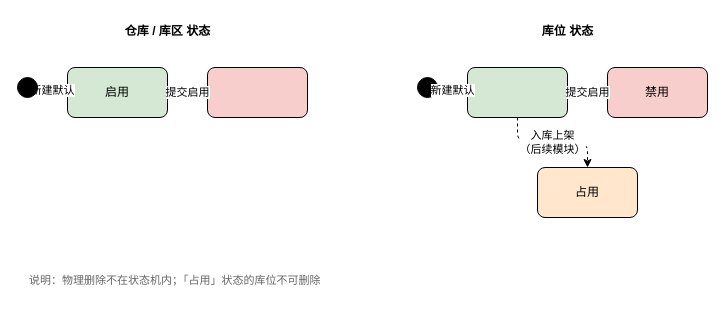
Some shapes in this 725 by 314 pixel diagram are drawn without their labels. Each missing label, with the centre of its shape:
"停用" belongs at point 257,92.
"可用" belongs at point 517,92.
